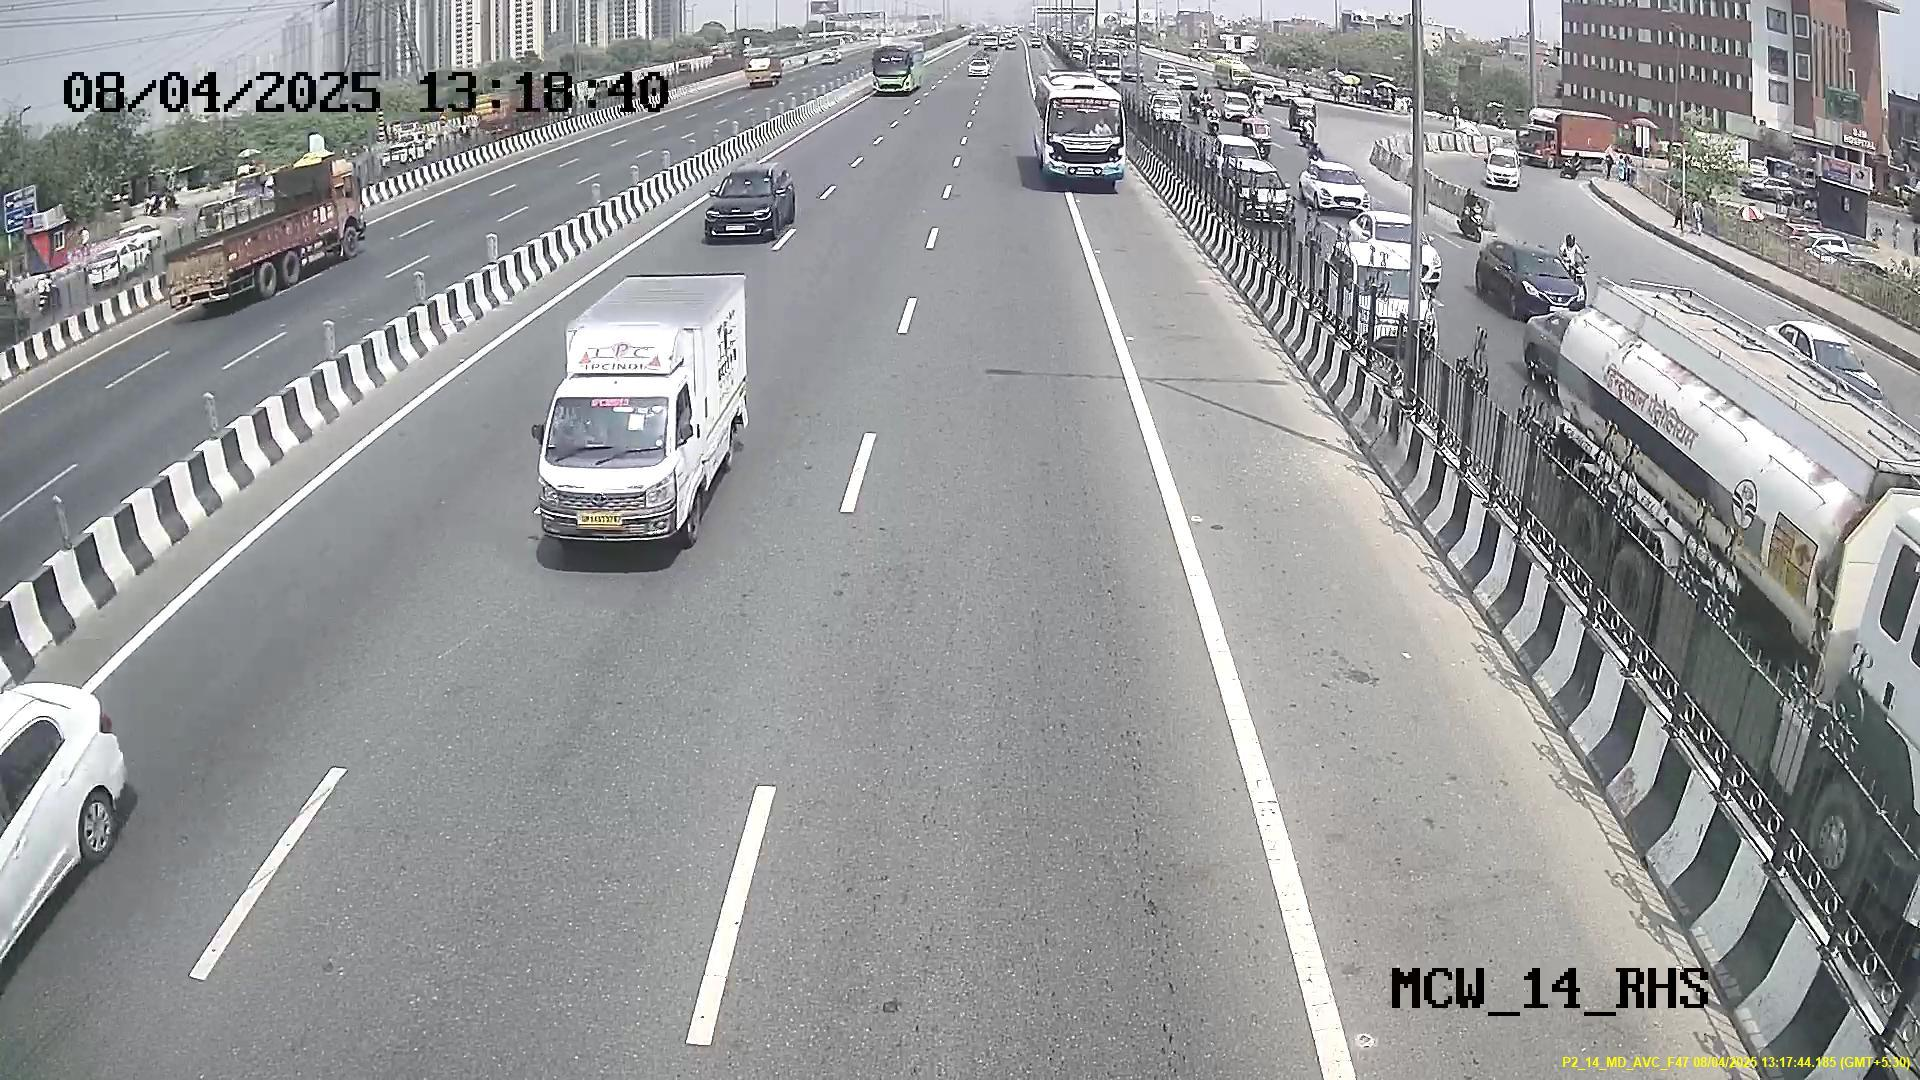bus: (1035, 84, 1133, 190)
car: (531, 369, 702, 550), (699, 167, 789, 247)
